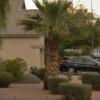Palm tree: (30, 1, 74, 74)
